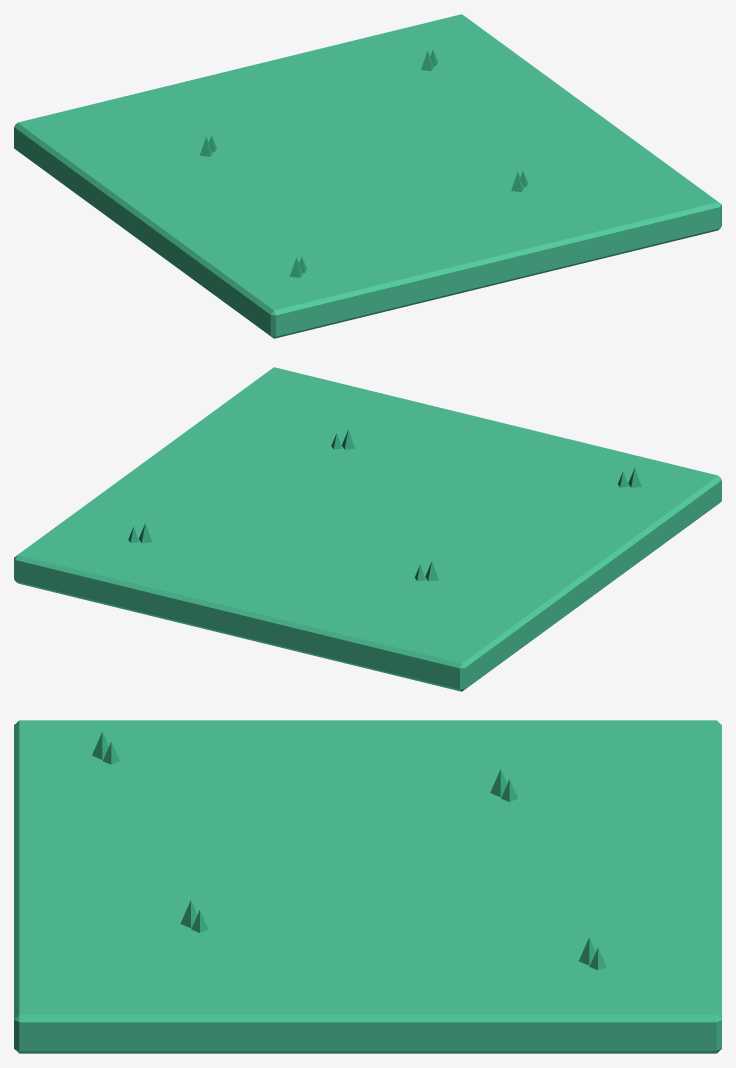
The model's file is lot_grass.glb.
3 views of the same model, one above another, from view 1: azimuth 30°, elevation 25°; view 2: azimuth 150°, elevation 25°; view 3: azimuth 270°, elevation 25° (orthographic). The views are drawn at different scales.
Visible parts, largest first — view 1: lot_grass; view 2: lot_grass; view 3: lot_grass.
Part boxes in pixels (left/top/right/bottom): lot_grass: left=14, top=14, right=721, bottom=338; lot_grass: left=14, top=367, right=721, bottom=691; lot_grass: left=14, top=720, right=721, bottom=1053.
Bounding box in the file's own units: 8 × 0.78 × 8.
